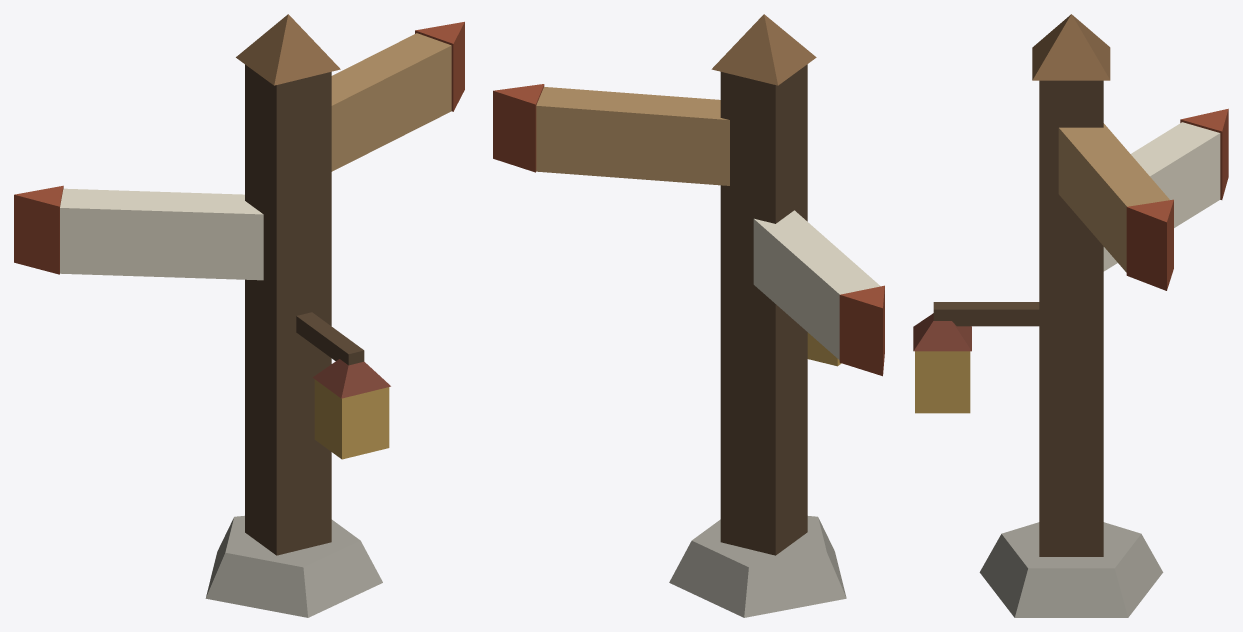
File: prop-signpost.glb
The picture shows the model from 3 angles, left to right: view 1: azimuth 30°, elevation 25°; view 2: azimuth 150°, elevation 25°; view 3: azimuth 270°, elevation 25°; orthographic projection.
Parts seen in each view (by area): view 1: prop-signpost; view 2: prop-signpost; view 3: prop-signpost.
Boxes of the visible parts, x1,y1,x2,y2 form: prop-signpost: [14, 14, 464, 617]; prop-signpost: [493, 14, 884, 617]; prop-signpost: [913, 14, 1228, 617].
Bounding box in the file's own units: 2.14 × 2.74 × 1.37.
1 material, 1 textured.
